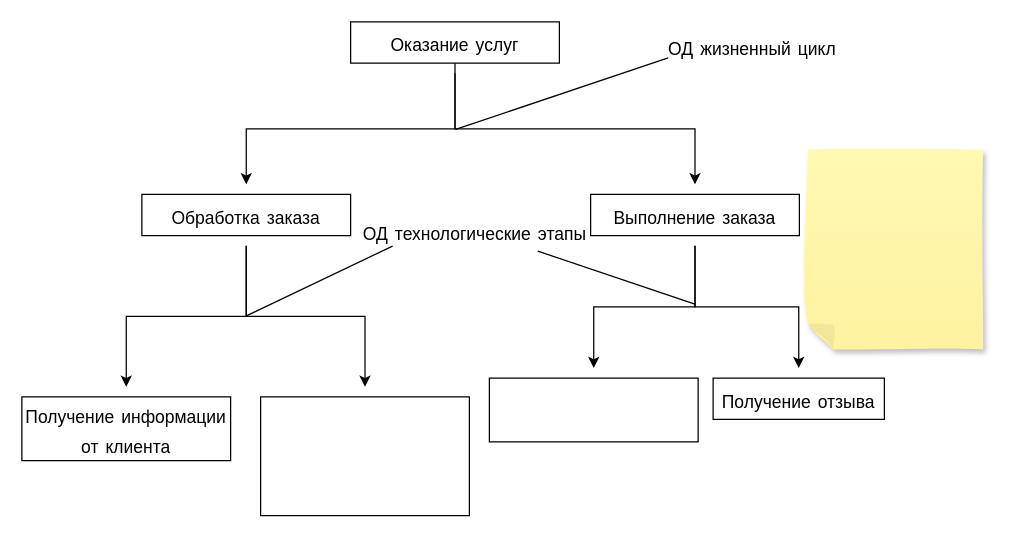
Image size: 1013x538. Some labels were removed from this diagram. The shapes that lost their labels are listed below. From the top down, each one's centre as x and y in pixels, then its label:
the point at 593,409: Предоставление необходимых средств
the point at 364,456: Получение информации о доступных средствах для выполнения определённой услуги
